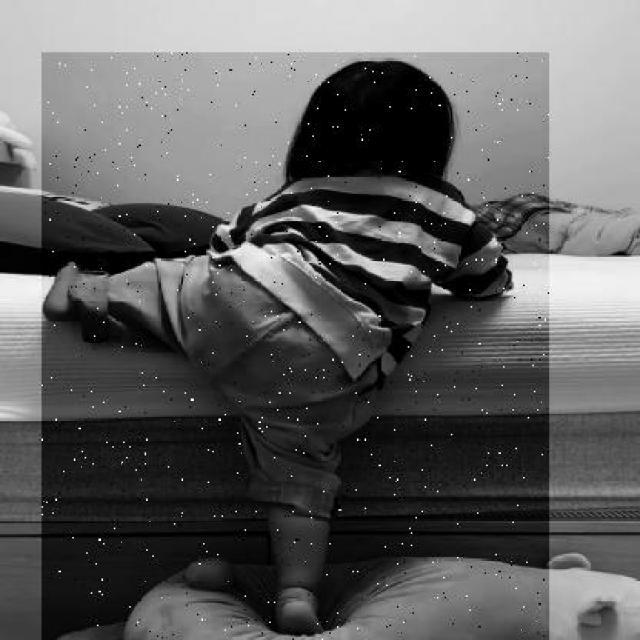child: (42, 52, 550, 640)
